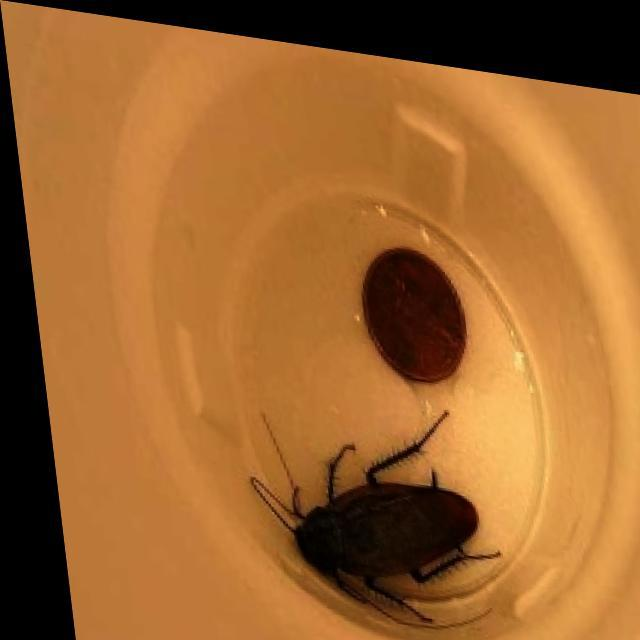cockroach: (245, 404, 503, 631)
